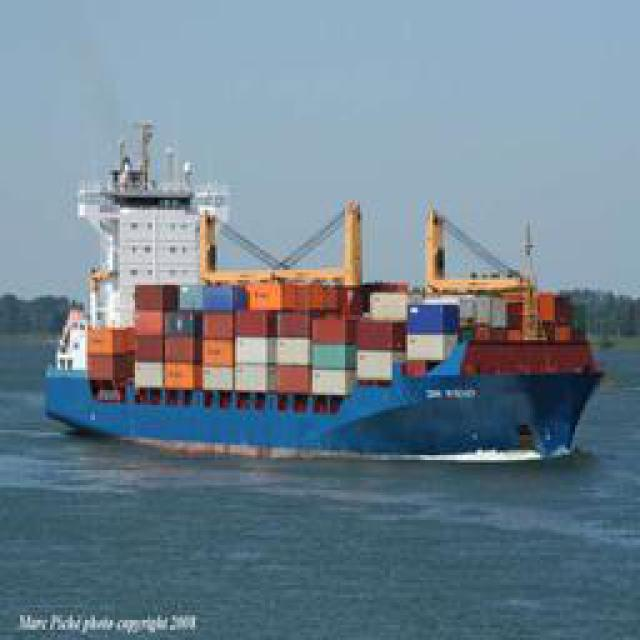Ship: (50, 153, 600, 458)
